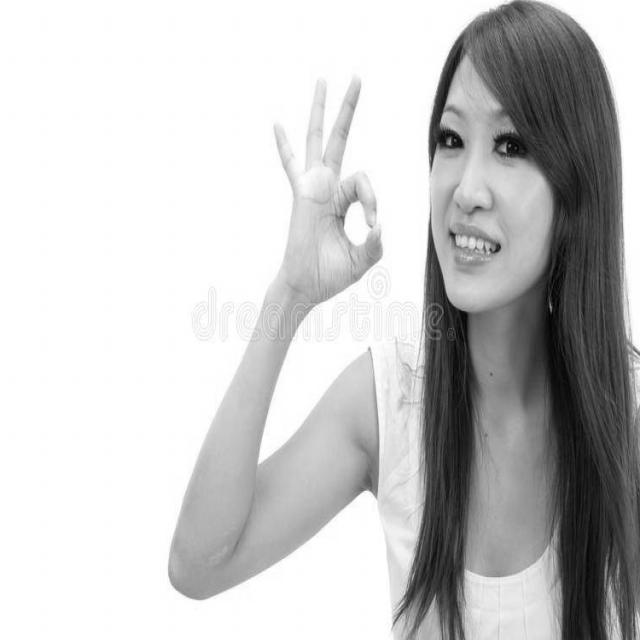perfect: (267, 66, 388, 304)
